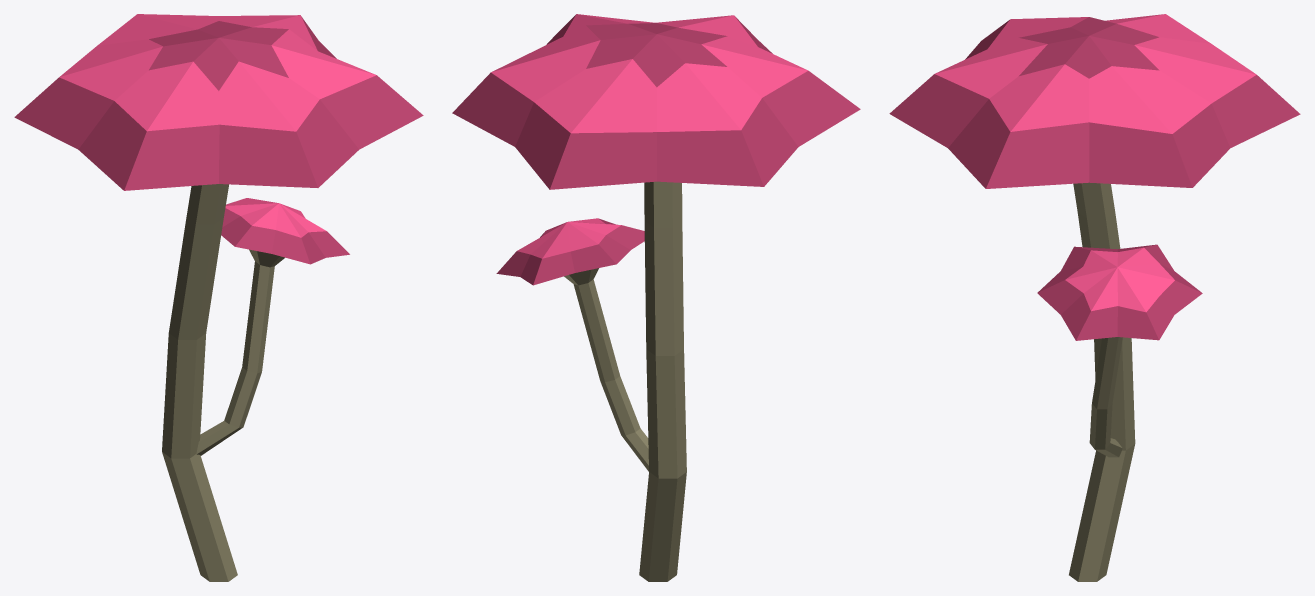
Rendered from Mushroom_4_Pink.fbx.
3 views of the same model, side by side, from view 1: azimuth 30°, elevation 25°; view 2: azimuth 150°, elevation 25°; view 3: azimuth 270°, elevation 25° (orthographic).
Visible parts, largest first — view 1: Mushroom_4_Pink; view 2: Mushroom_4_Pink; view 3: Mushroom_4_Pink.
Part boxes in pixels (bbox=[...]): Mushroom_4_Pink: bbox=[14, 14, 423, 581]; Mushroom_4_Pink: bbox=[452, 14, 860, 581]; Mushroom_4_Pink: bbox=[889, 14, 1300, 581].
Size of the model in its own units: 38.08 by 63.2 by 43.68.
